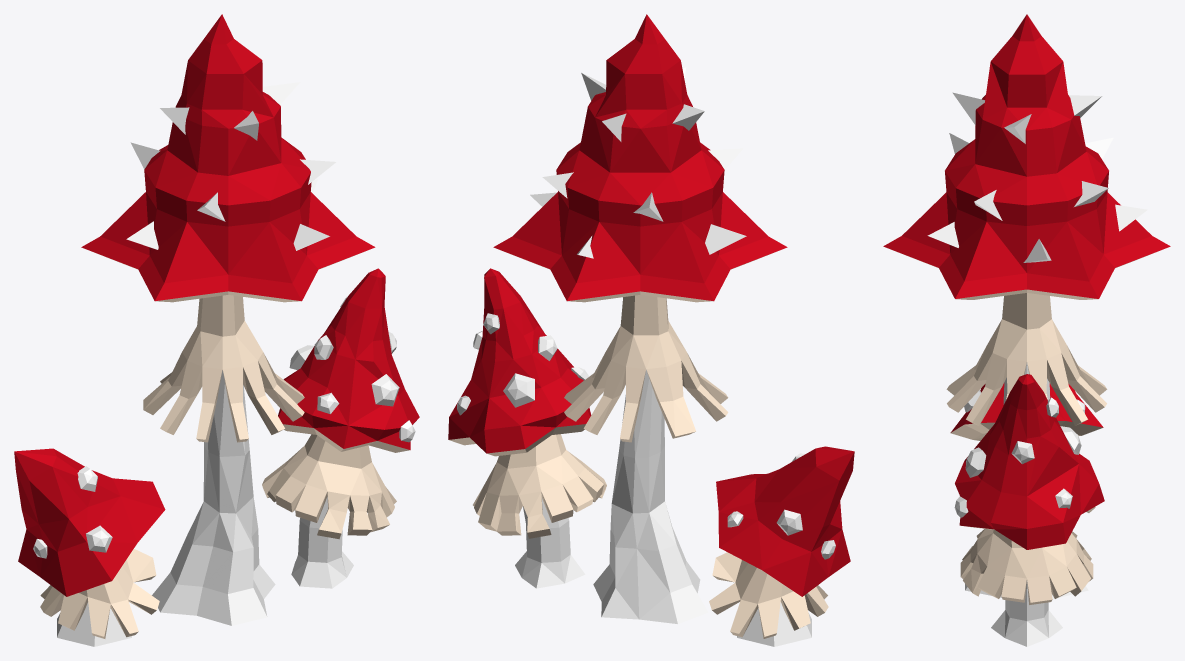
File: mushroom_2.obj
3 views of the same model, side by side, from view 1: azimuth 30°, elevation 25°; view 2: azimuth 150°, elevation 25°; view 3: azimuth 270°, elevation 25° (orthographic). The views are drawn at different scales.
Parts seen in each view (by area): view 1: mashroom_2; view 2: mashroom_2; view 3: mashroom_2.
Part boxes in pixels (x1,y1,x2,y2): mashroom_2: [14, 14, 419, 646]; mashroom_2: [448, 14, 854, 646]; mashroom_2: [883, 14, 1170, 646].
Bounding box in the file's own units: 0.7849 × 1.11 × 0.5066.
